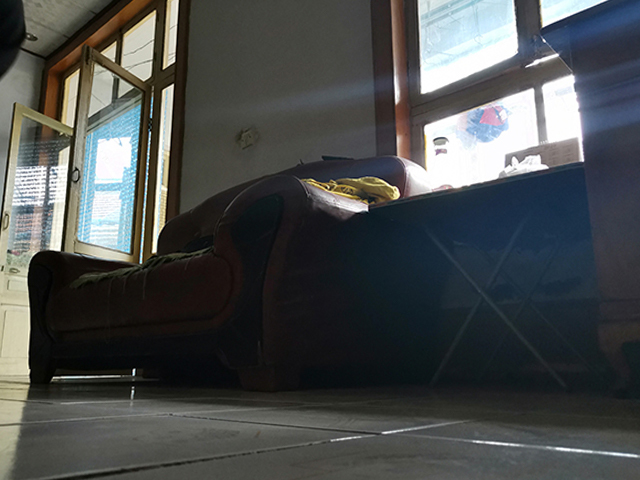sofa: (26, 152, 434, 393)
table: (367, 159, 611, 392)
